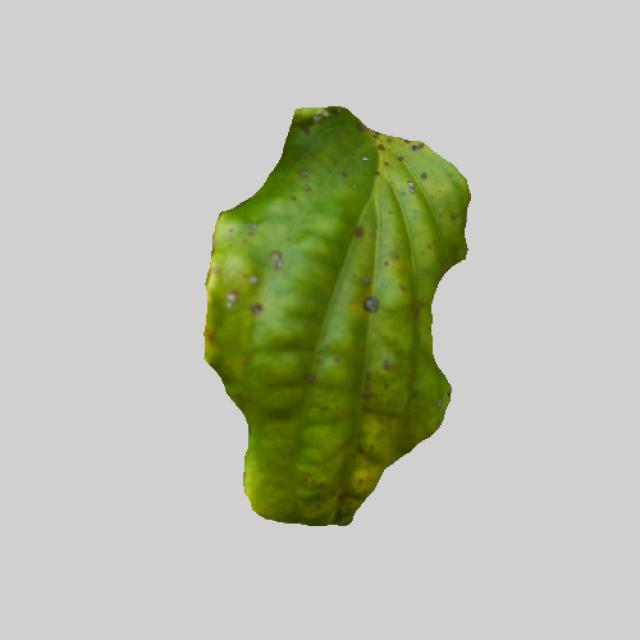yellow-mottle-virus: (189, 109, 475, 521)
